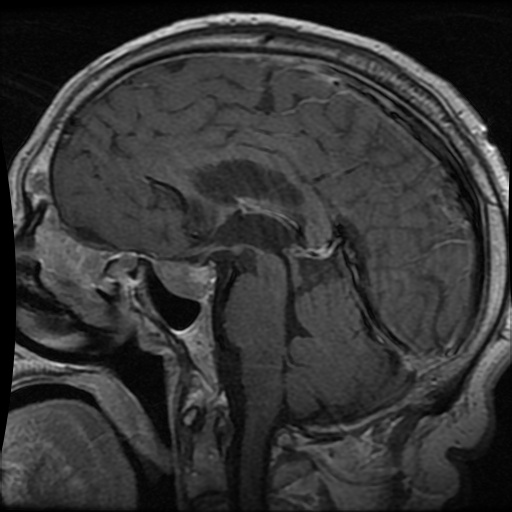pituitary: (153, 260, 217, 301)
